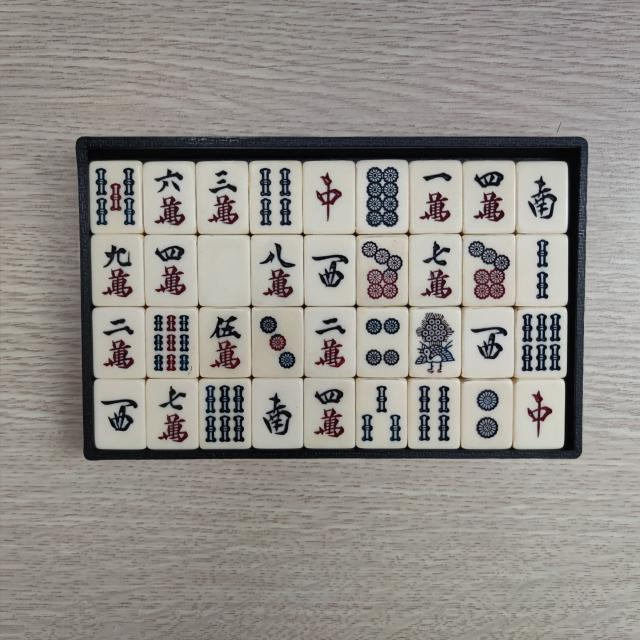hdr: (308, 166, 349, 230), (520, 384, 558, 446)
hdw: (204, 242, 246, 302)
hws: (258, 382, 300, 442), (521, 166, 562, 227)
hww: (308, 240, 352, 302), (468, 312, 510, 374), (98, 386, 141, 444)
sb1: (412, 311, 458, 376)
sb2: (520, 238, 564, 304)
sb3: (358, 384, 402, 446)
sb4: (256, 164, 298, 229), (414, 383, 455, 446)
sb5: (96, 166, 140, 231)
sb6: (518, 312, 563, 376), (202, 384, 248, 446)
sb9: (151, 312, 194, 375)
sc1: (414, 166, 456, 230)
sc2: (98, 314, 140, 376), (309, 312, 351, 374)
sc3: (203, 164, 245, 228)
sc4: (150, 240, 193, 302), (470, 168, 512, 230), (309, 384, 350, 444)
sc5: (204, 310, 247, 372)
sc6: (150, 165, 192, 228)
sc7: (416, 238, 458, 302), (152, 382, 193, 444)
sc8: (258, 240, 302, 303)
sc9: (95, 238, 138, 301)
sd2: (468, 385, 507, 445)
sd3: (256, 312, 300, 374)
sd4: (362, 312, 405, 374)
sd7: (362, 240, 406, 304), (468, 240, 512, 304)
sd8: (362, 164, 404, 229)
